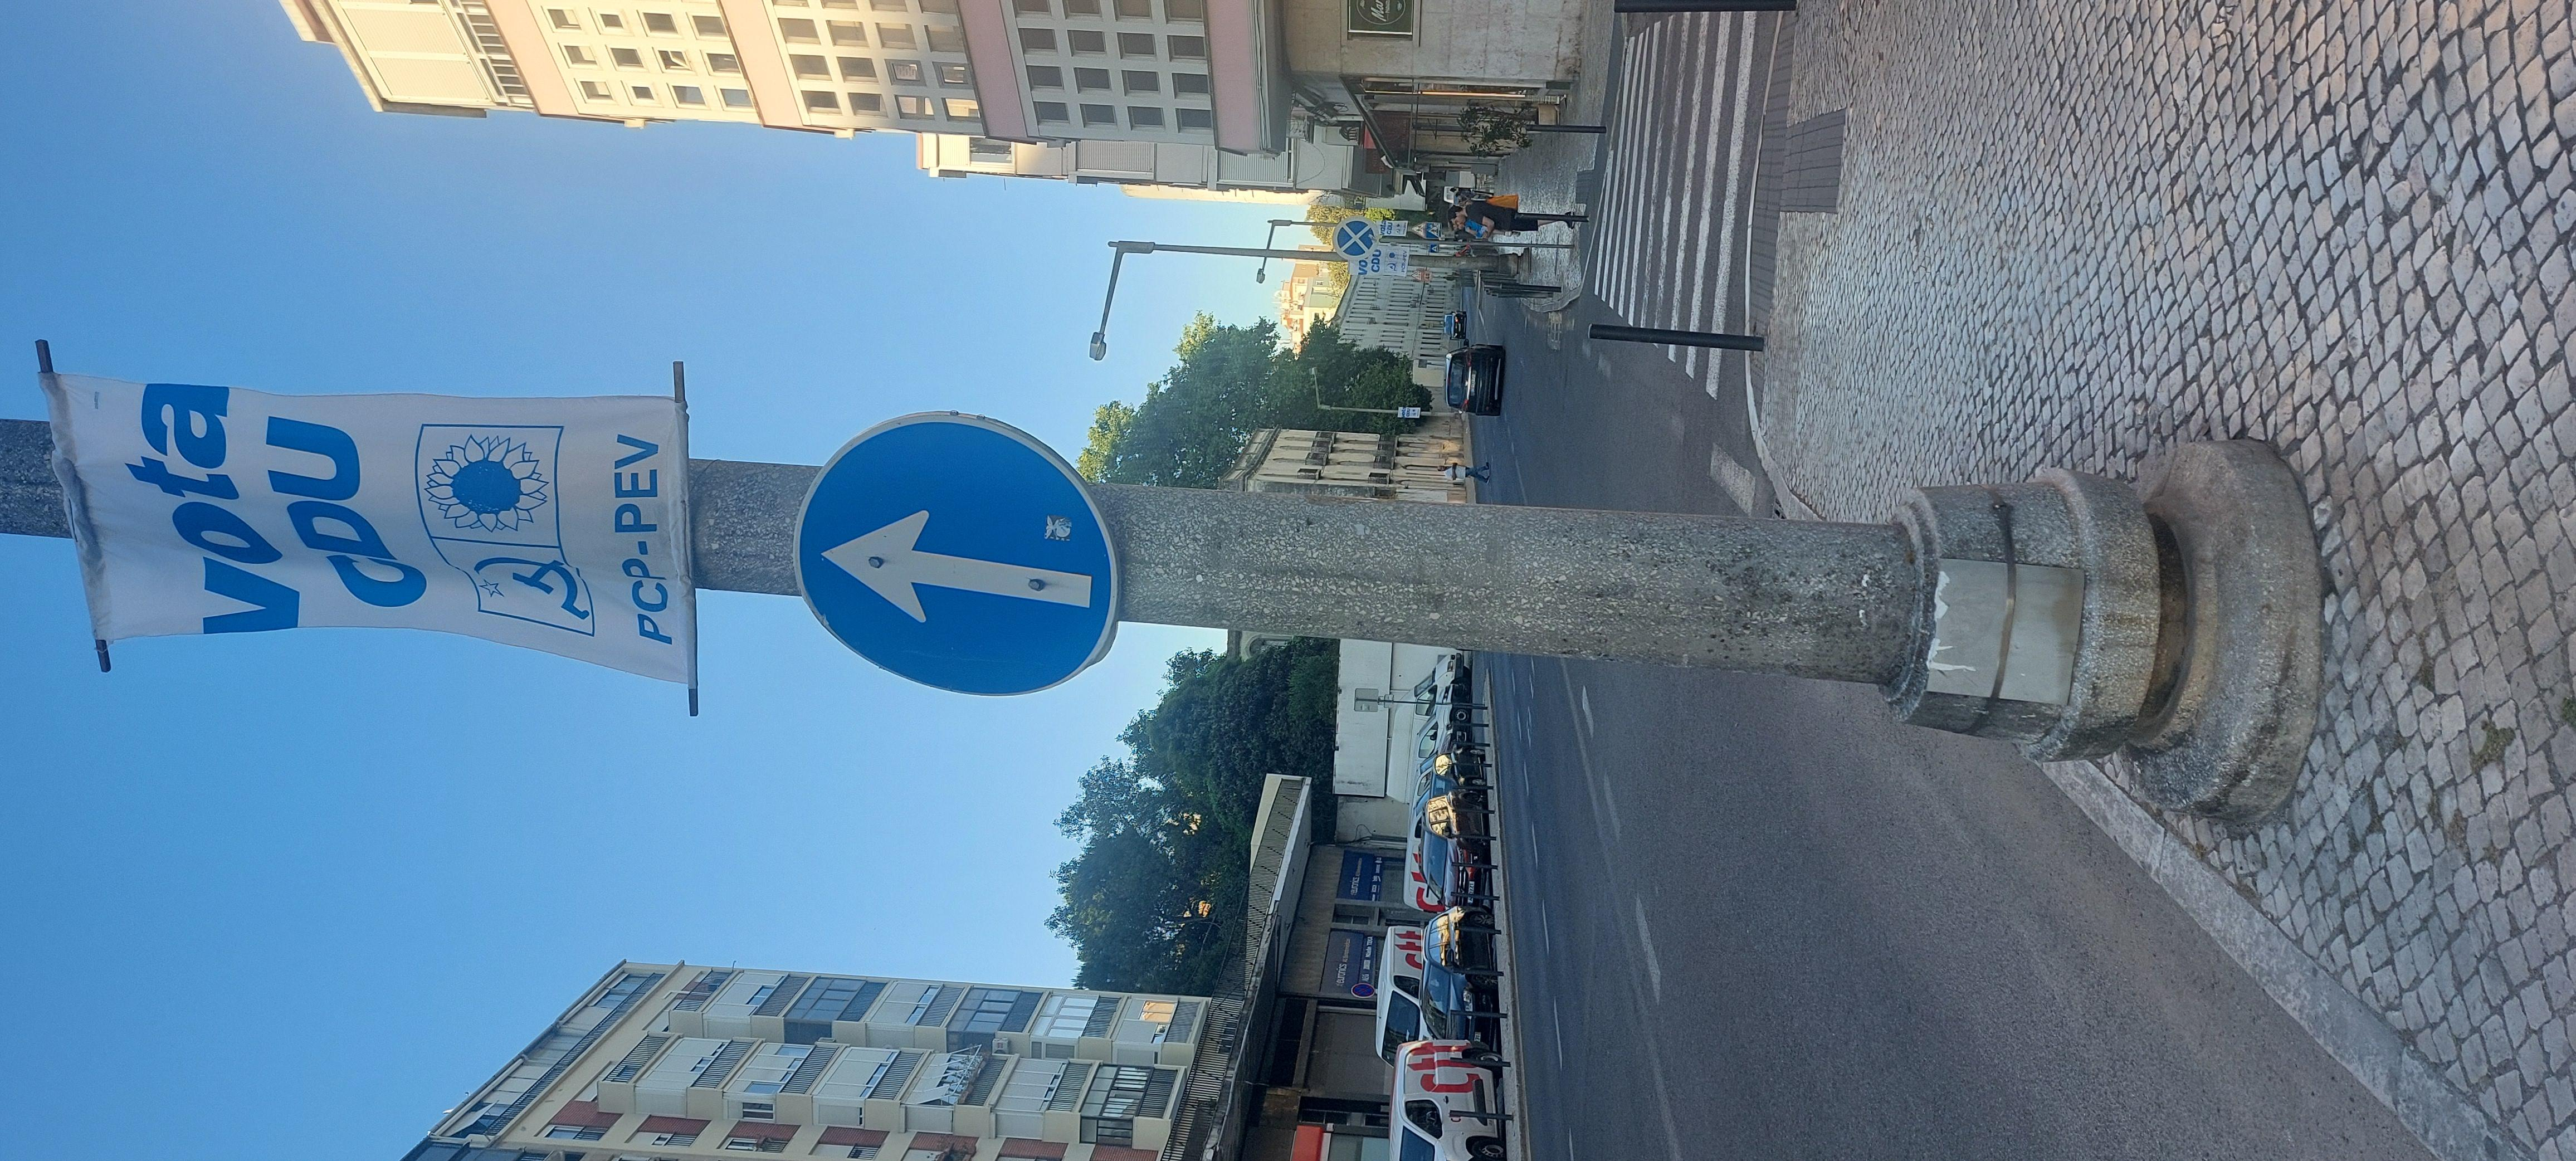sentido obrigatorio: (1001, 358, 1685, 510)
